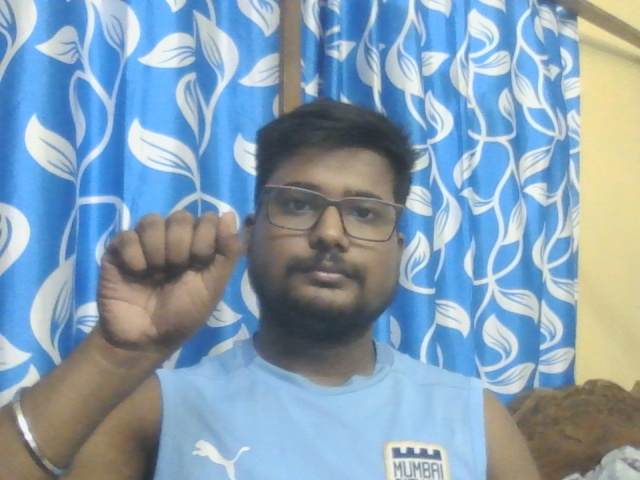A: (97, 209, 239, 345)
